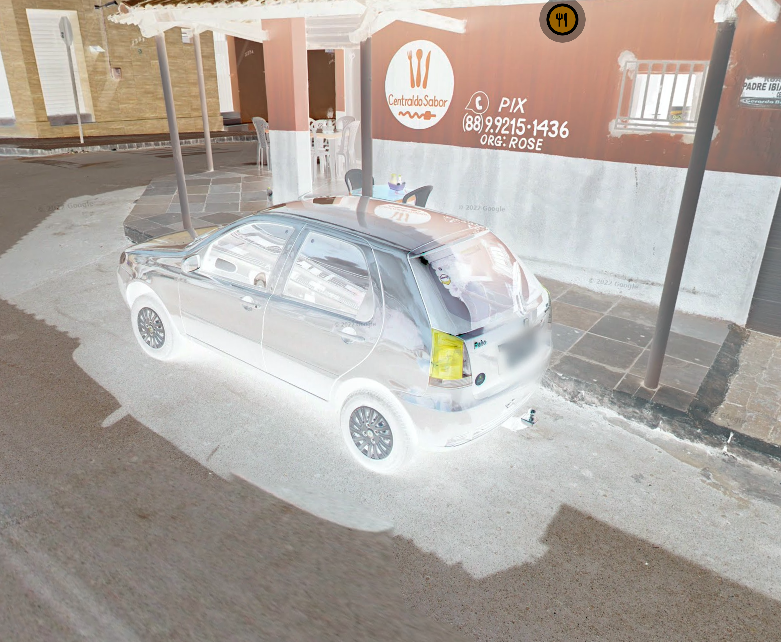car: (114, 179, 563, 480)
